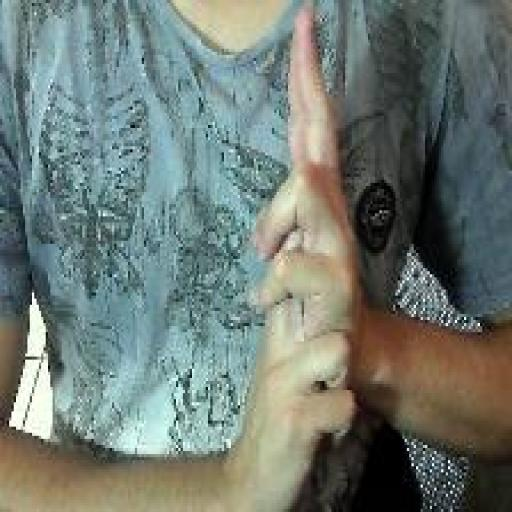Hitsuji -ram-: (246, 4, 362, 504)
